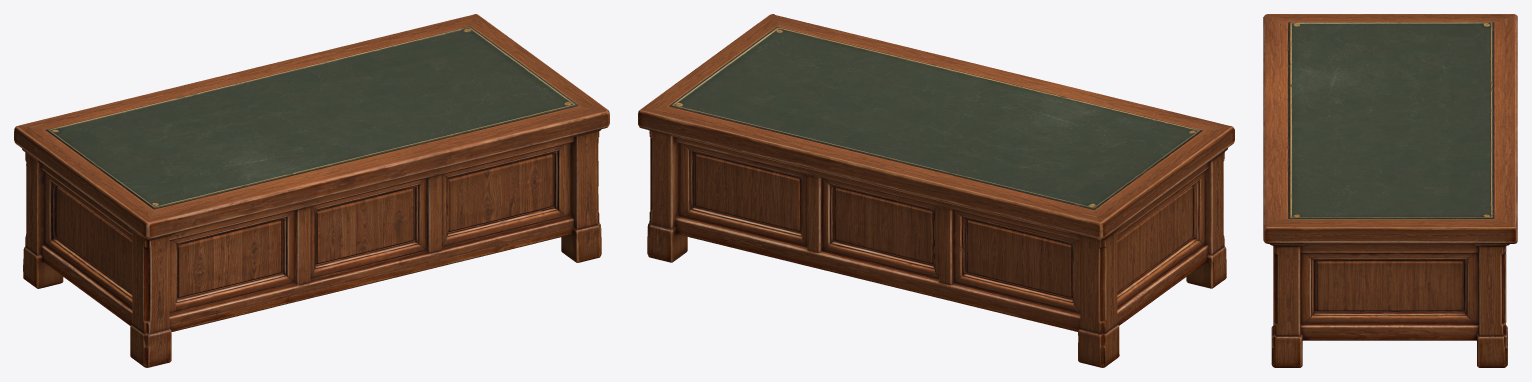
The model's file is original.glb.
3 renders of one model, left to right at view 1: azimuth 30°, elevation 25°; view 2: azimuth 150°, elevation 25°; view 3: azimuth 270°, elevation 25°, orthographic. The views are drawn at different scales.
Visible parts, largest first — view 1: tripo_node_66177ebd-e48e-4554-b283-4f451bc5e304; view 2: tripo_node_66177ebd-e48e-4554-b283-4f451bc5e304; view 3: tripo_node_66177ebd-e48e-4554-b283-4f451bc5e304.
Part boxes in pixels (x1,y1,x2,y2): tripo_node_66177ebd-e48e-4554-b283-4f451bc5e304: (14, 14, 609, 367); tripo_node_66177ebd-e48e-4554-b283-4f451bc5e304: (638, 14, 1234, 367); tripo_node_66177ebd-e48e-4554-b283-4f451bc5e304: (1263, 14, 1517, 367).
Size of the model in its own units: 0.9807 by 0.3052 by 0.4908.
1 material, 1 textured.
